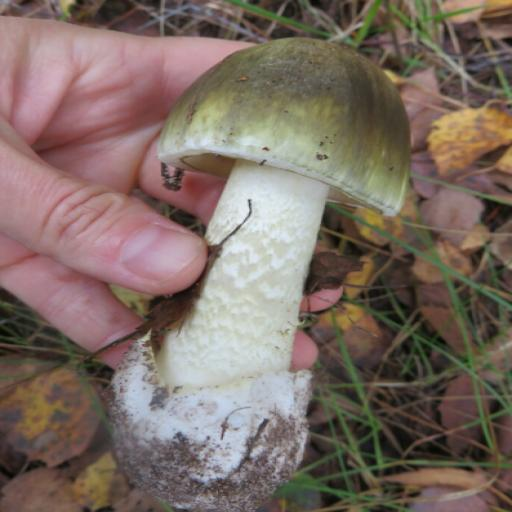mushroom: (154, 10, 435, 219), (153, 152, 332, 408)
